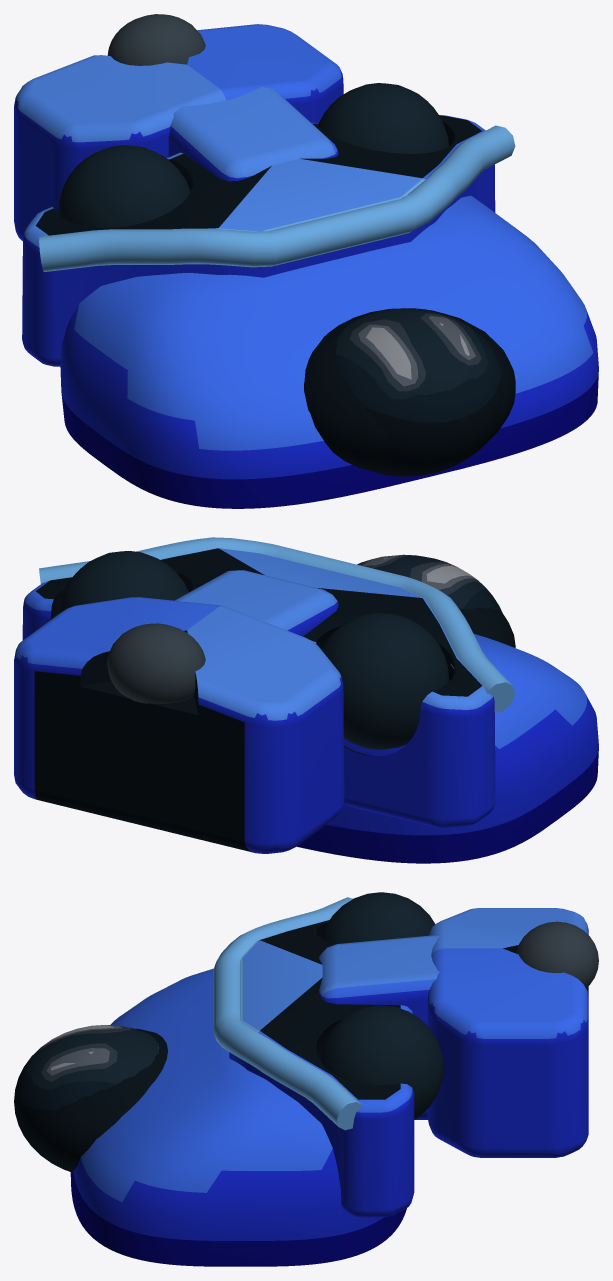
Rendered from lens_pod_blue.glb.
3 renders of one model, top to bottom at view 1: azimuth 30°, elevation 25°; view 2: azimuth 150°, elevation 25°; view 3: azimuth 270°, elevation 25°, orthographic. The views are drawn at different scales.
Parts seen in each view (by area): view 1: body, hood, yoke, lens, bead, neck, ball0, cup, ball1, knob; view 2: hood, yoke, body, ball0, bead, knob, neck, ball1, lens, cup; view 3: body, hood, yoke, lens, bead, ball1, neck, cup, ball0, knob.
Part boxes in pixels (box(x1,y1,x2,y2)): body: box(60, 195, 598, 508); hood: box(14, 24, 343, 240); yoke: box(22, 115, 495, 366); lens: box(335, 308, 503, 476); bead: box(39, 125, 515, 271); neck: box(168, 87, 338, 181); ball0: box(58, 145, 190, 227); cup: box(304, 308, 515, 471); ball1: box(318, 83, 449, 153); knob: box(107, 14, 205, 65); hood: box(14, 597, 344, 853); yoke: box(22, 548, 495, 828); body: box(297, 634, 598, 863); ball0: box(321, 613, 449, 749); bead: box(39, 537, 515, 712); knob: box(107, 623, 205, 703); neck: box(175, 570, 338, 636); ball1: box(58, 551, 189, 613); lens: box(357, 554, 502, 613); cup: box(459, 607, 515, 647); body: box(70, 968, 406, 1266); hood: box(427, 908, 588, 1157); yoke: box(229, 919, 414, 1217); lens: box(14, 1025, 158, 1172); bead: box(213, 897, 362, 1130); ball1: box(320, 1005, 443, 1119); neck: box(319, 935, 439, 1119); cup: box(33, 1028, 167, 1171); ball0: box(321, 892, 434, 944); knob: box(516, 921, 598, 987).
Bounding box in the file's own units: 21.96 × 11.7 × 25.8.
